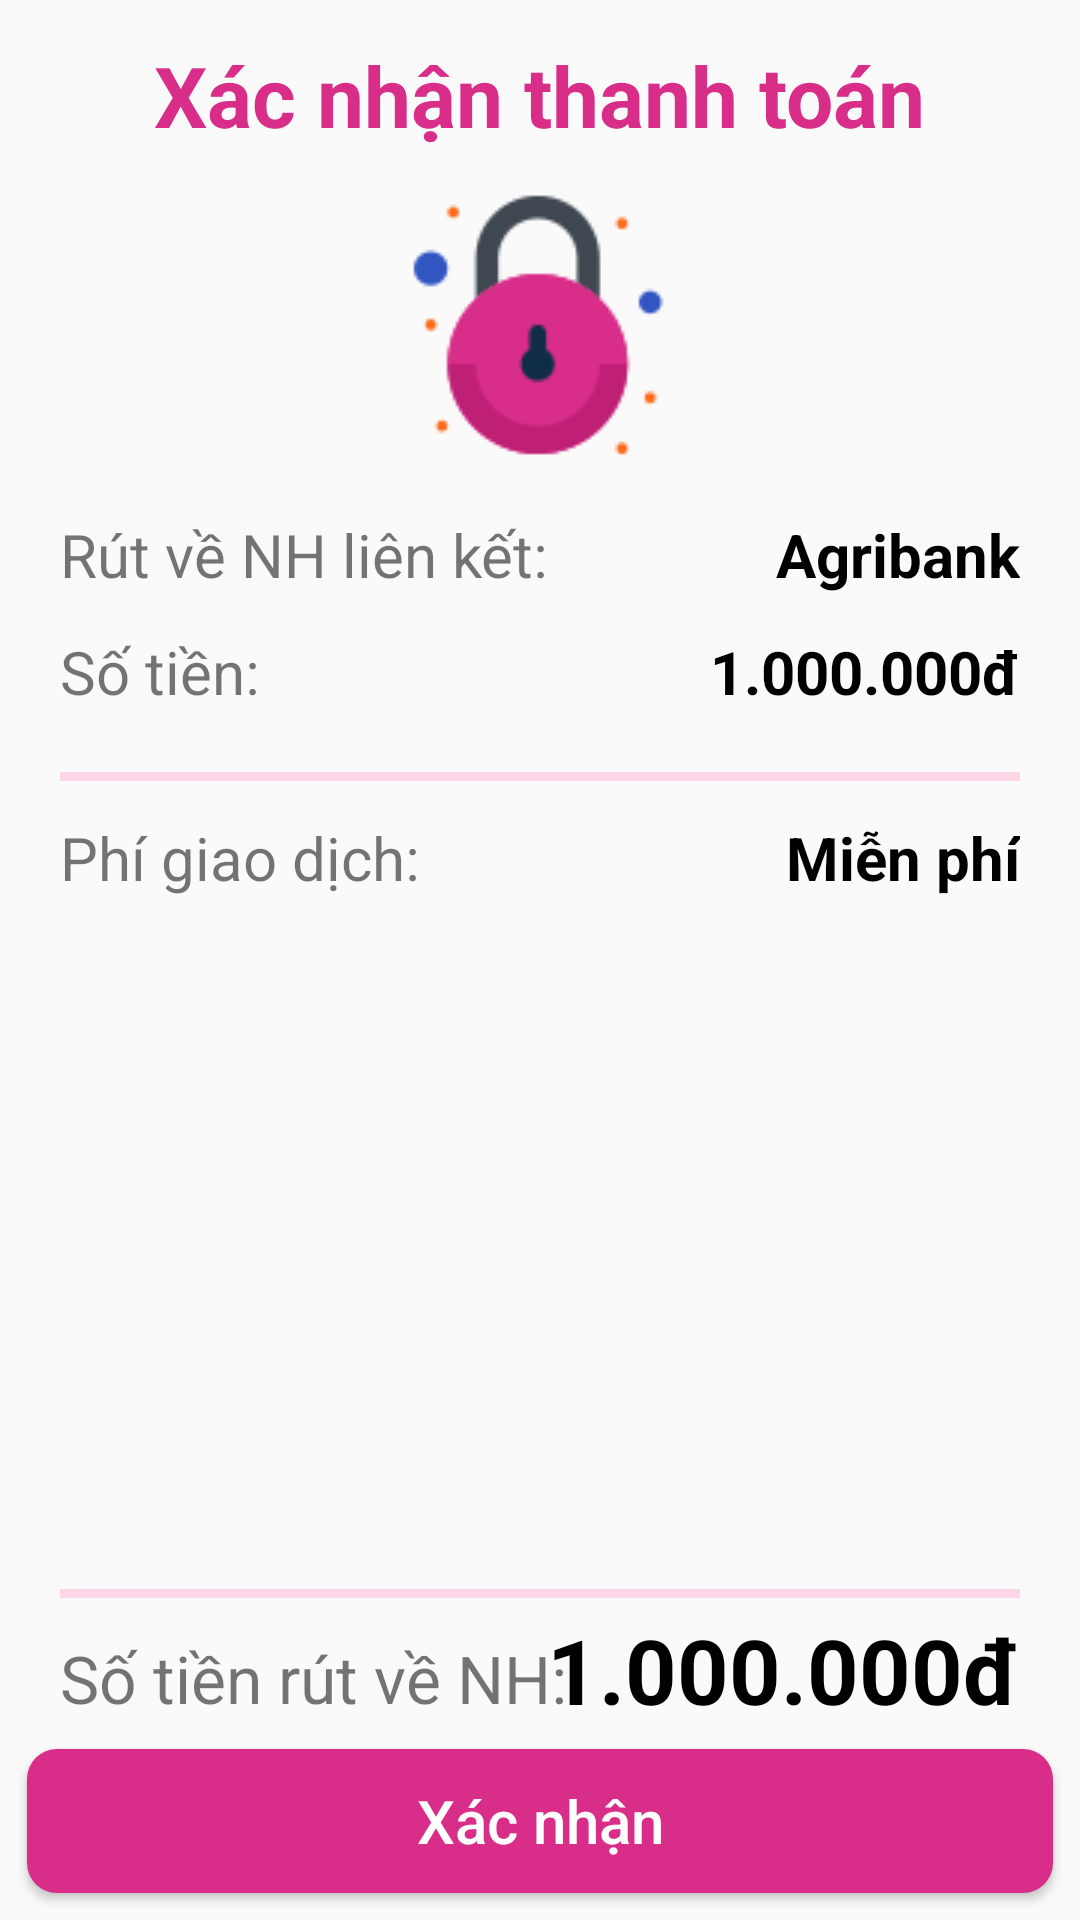

Locate icon controls on the screen. Image size 1080x1920, boxes as (x1, y1, x2, y2).
lock: (413, 195, 664, 455)
